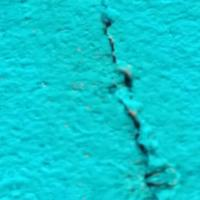crack: (84, 0, 191, 199)
